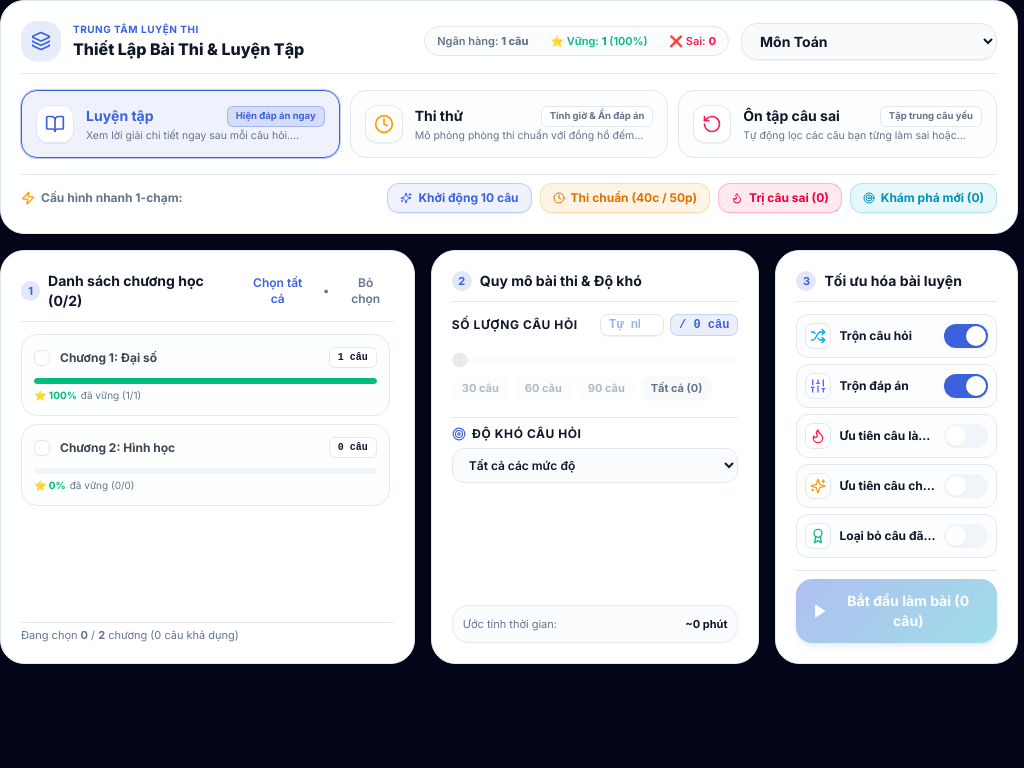
Test case: QuizSetupPage Empirical Verification › 5. Switching mode to review sets prioritizeWrong to true and shows empty state if 0 review questions
Select all chapters
What coordinates should you click on to do the following:
click the button "Chọn tất cả"
I would click on:
 (278, 291)
Its box is [241,273,315,309].
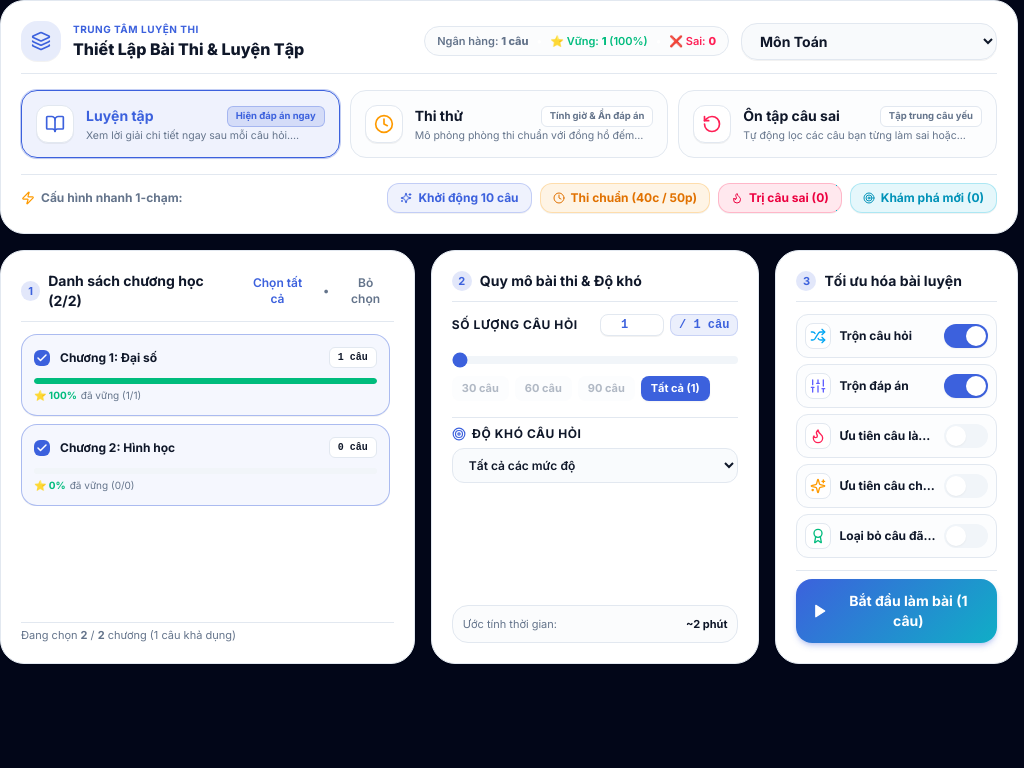
Select Review Mode card
What coordinates should you click on to do the following:
click the text "Ôn tập câu sai"
I would click on:
 (792, 116)
Its box is [743,106,840,126].
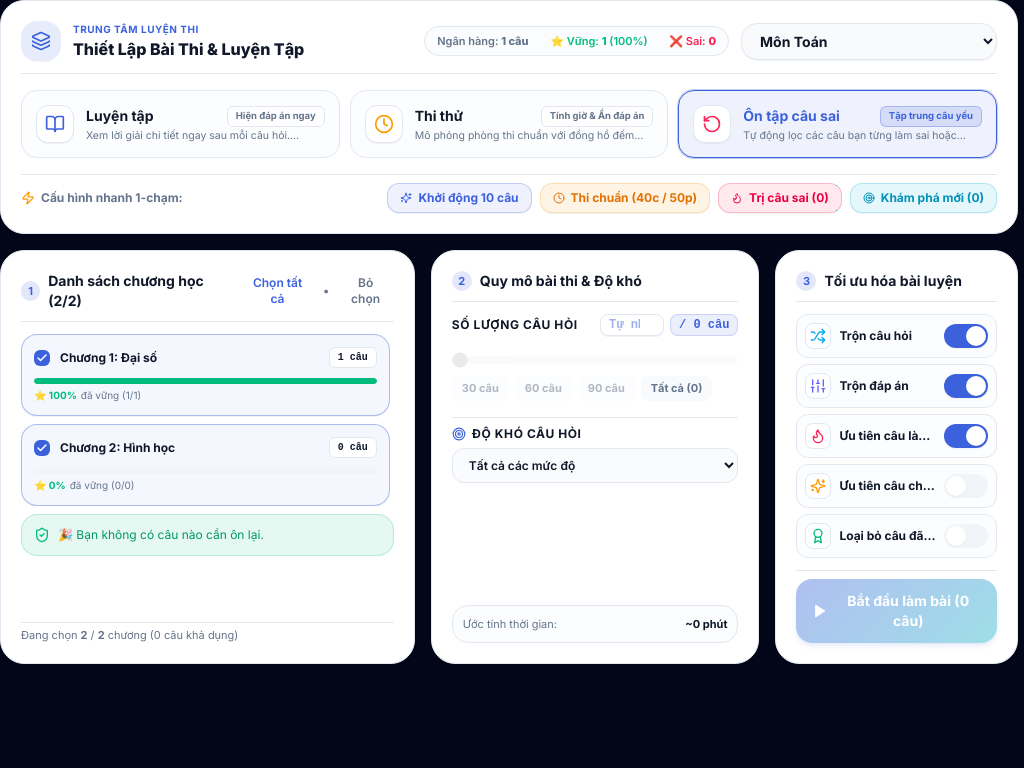
Now the text "🎉 Bạn không có câu nào cần ôn lại." is shown, box [58,527,264,543]
Now the button "Bắt đầu làm bài (0 câu)" is disabled, box [796,579,997,643]
